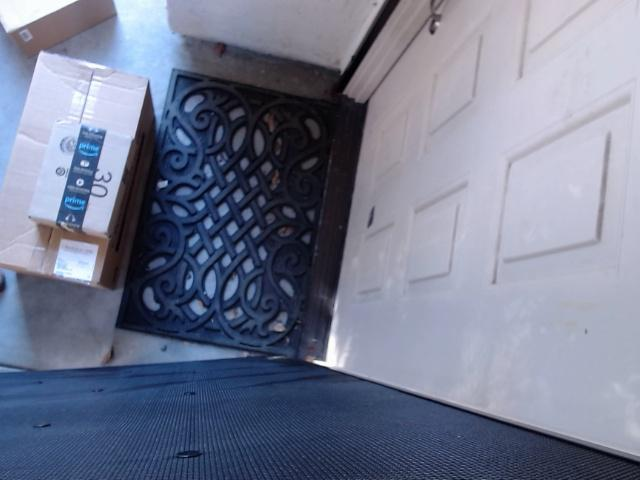box: (0, 46, 177, 315), (25, 105, 132, 243), (0, 0, 139, 65)
